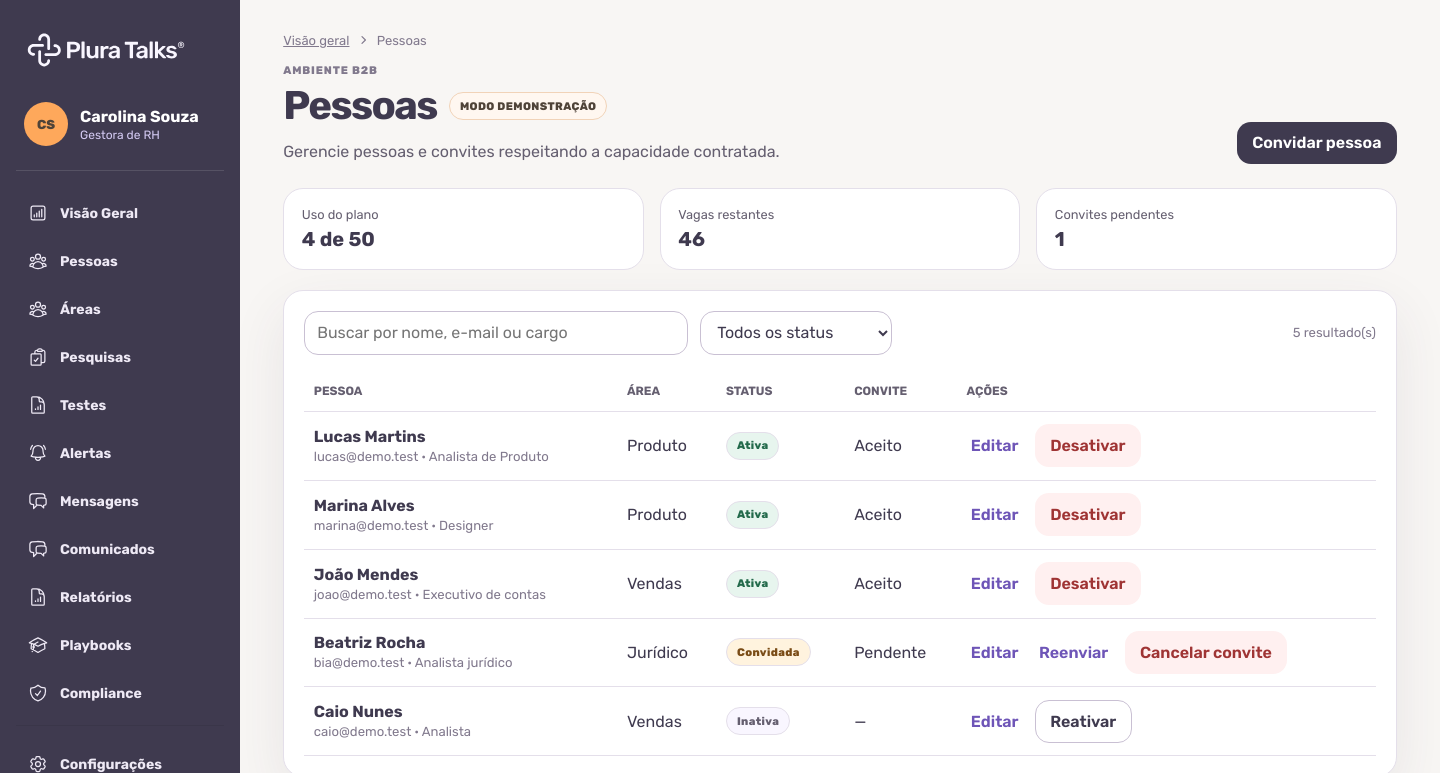
Test: fluxos das configurações › valida duplicidade de e-mail antes de criar convite
The image size is (1440, 773).
Click the button "Convidar pessoa".
click(1317, 143)  # box [1237,122,1397,164]
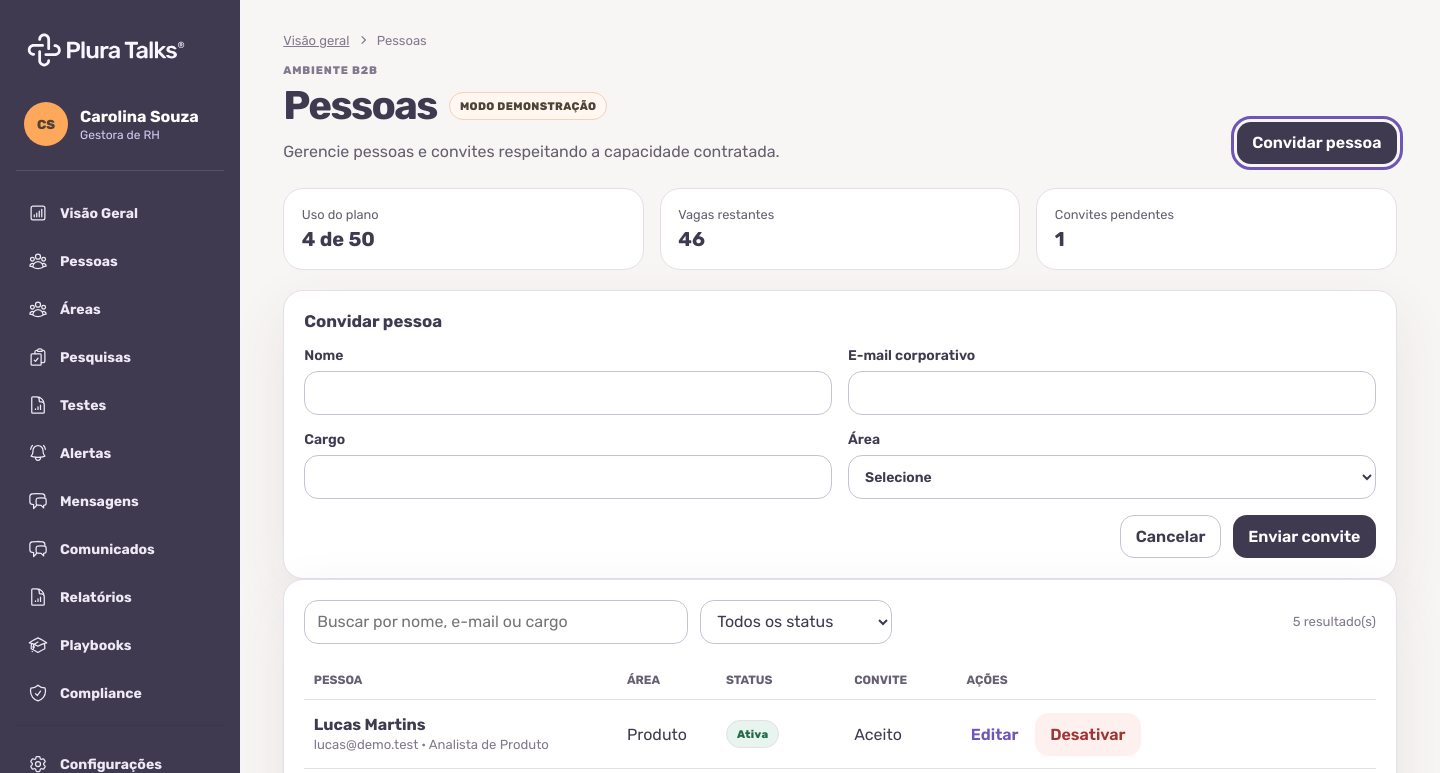
Type "Outro Lucas" into the field labelled "Nome".
click(568, 393); type("Outro Lucas")  # box [304,371,832,415]
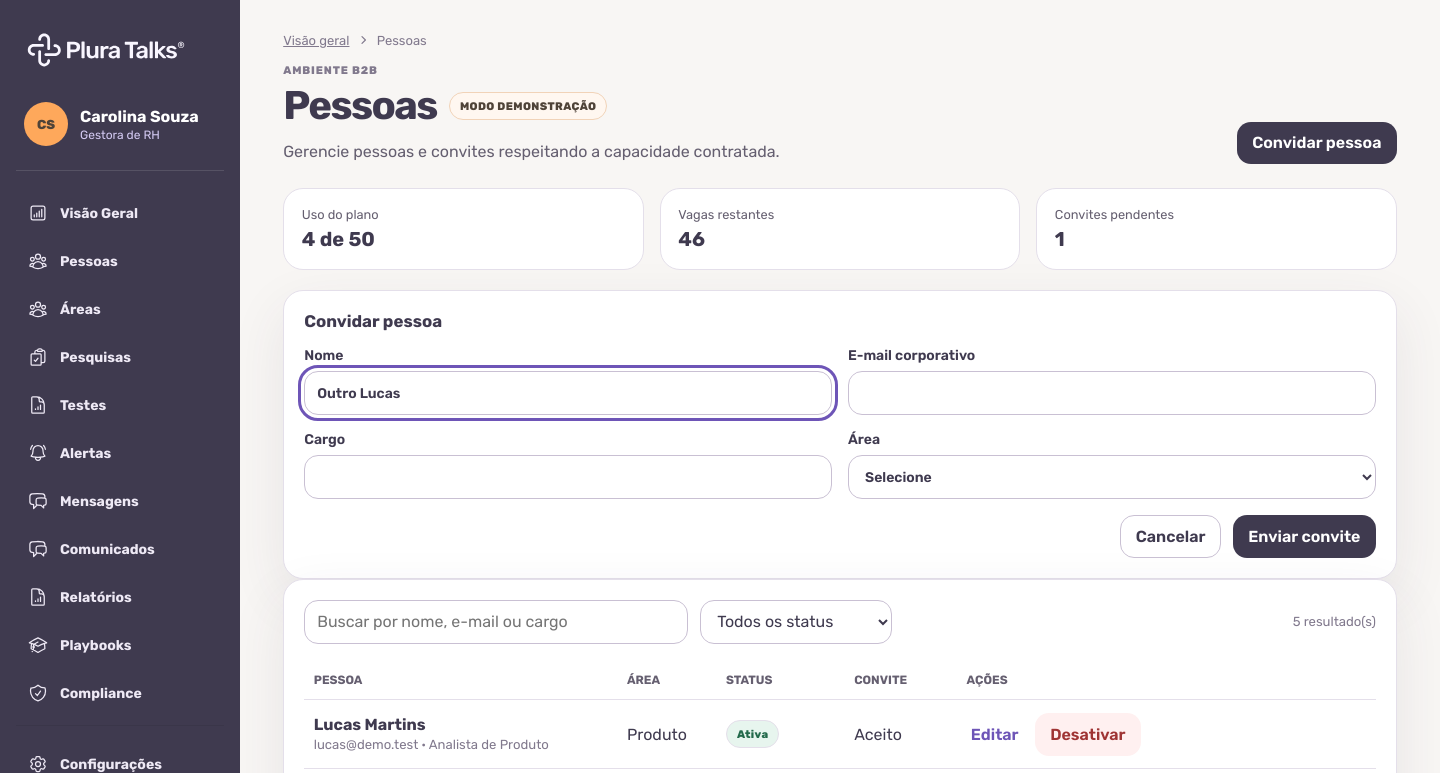
Type "lucas@demo.test" into the field labelled "E-mail corporativo".
click(1112, 393); type("lucas@demo.test")  # box [848,371,1376,415]
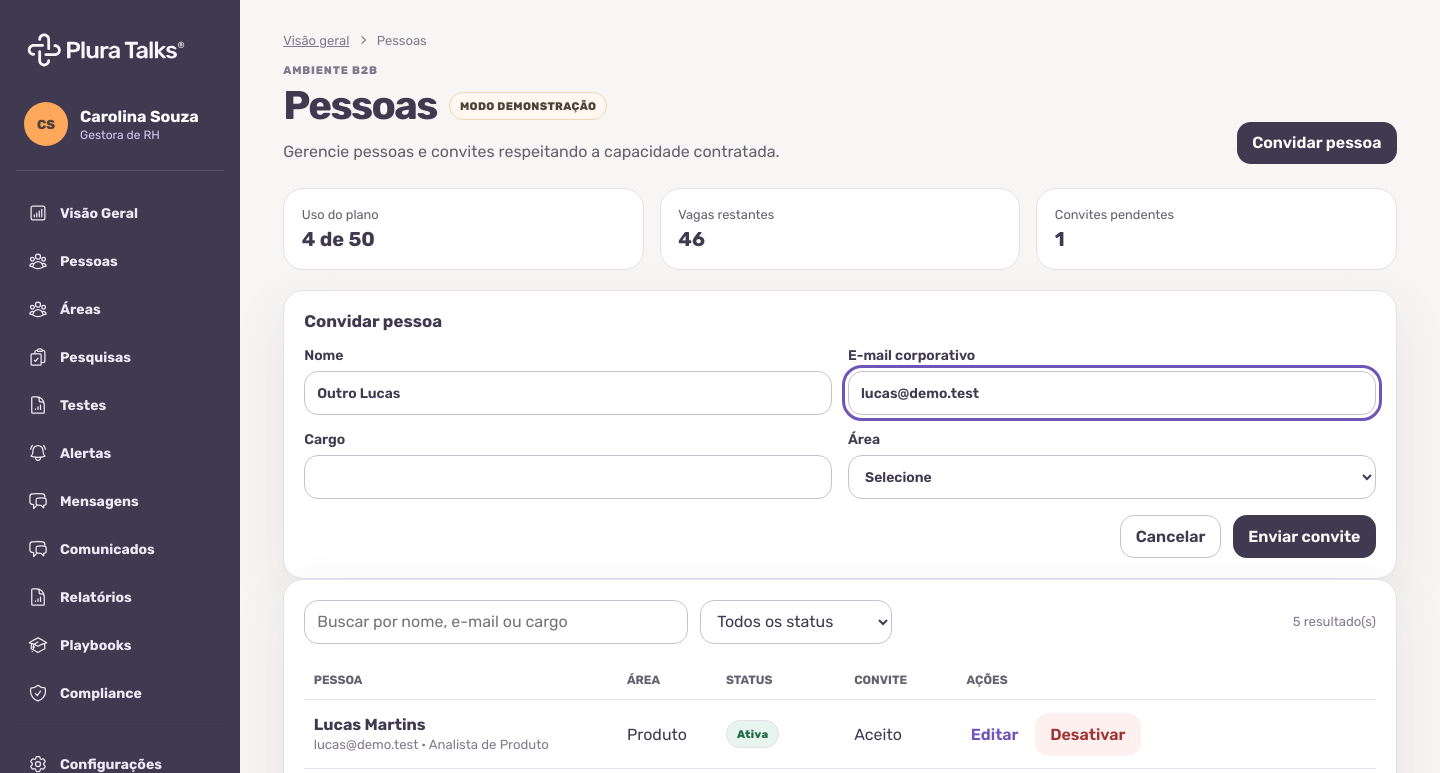
Type "Analista" into the field labelled "Cargo".
click(568, 477); type("Analista")  # box [304,455,832,499]
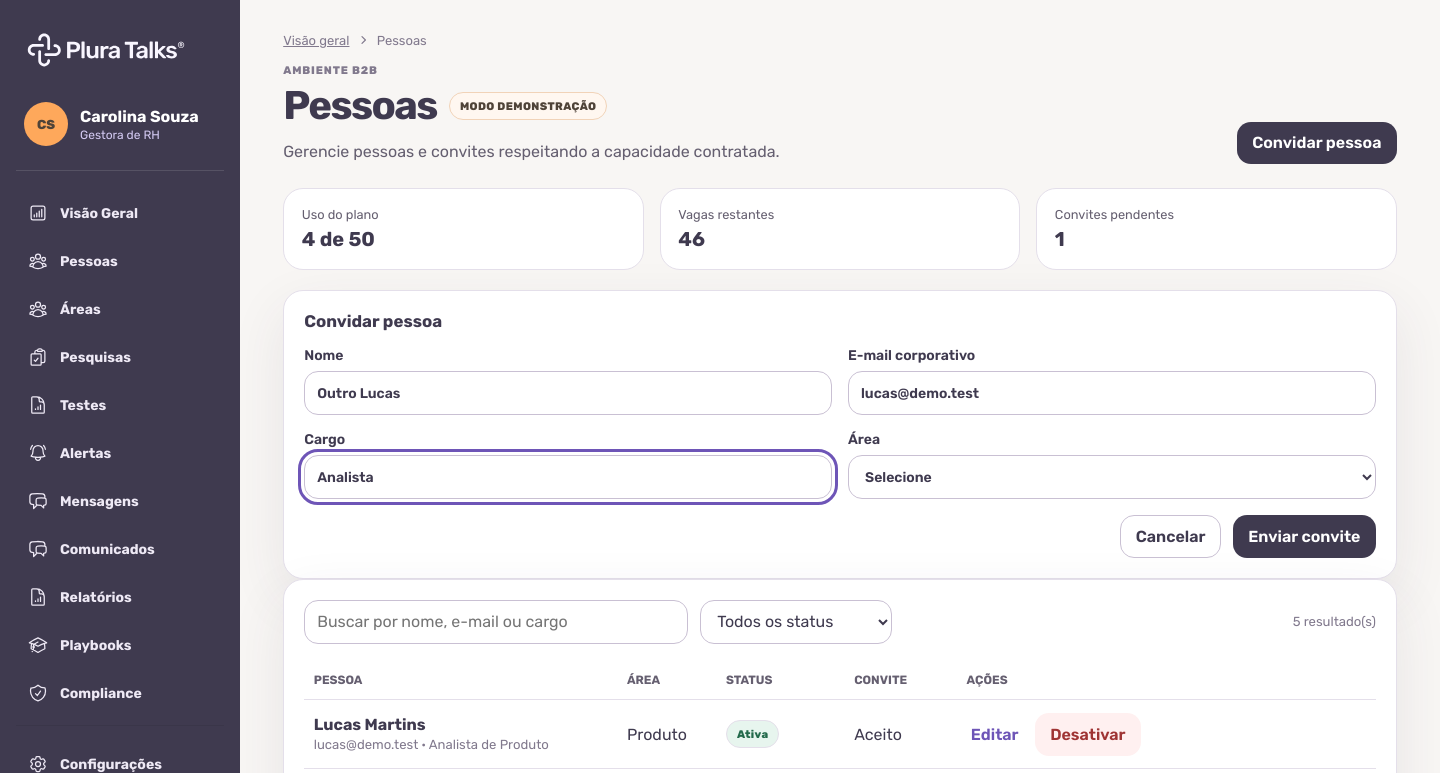
Select "Produto" in the dropdown labelled "Área" at x=1112, y=477, box [848,455,1376,499]
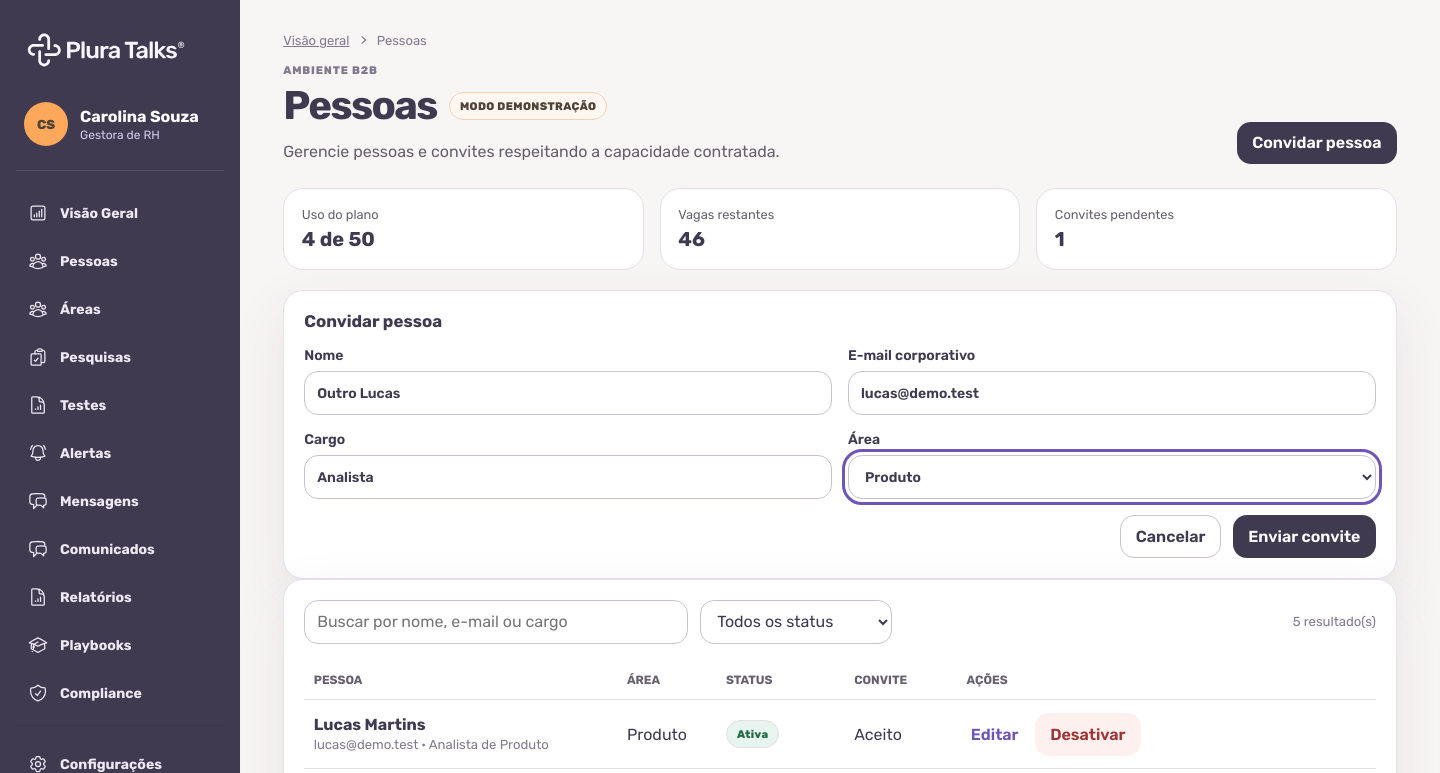
Click the button "Enviar convite".
click(1304, 536)  # box [1233,515,1376,558]
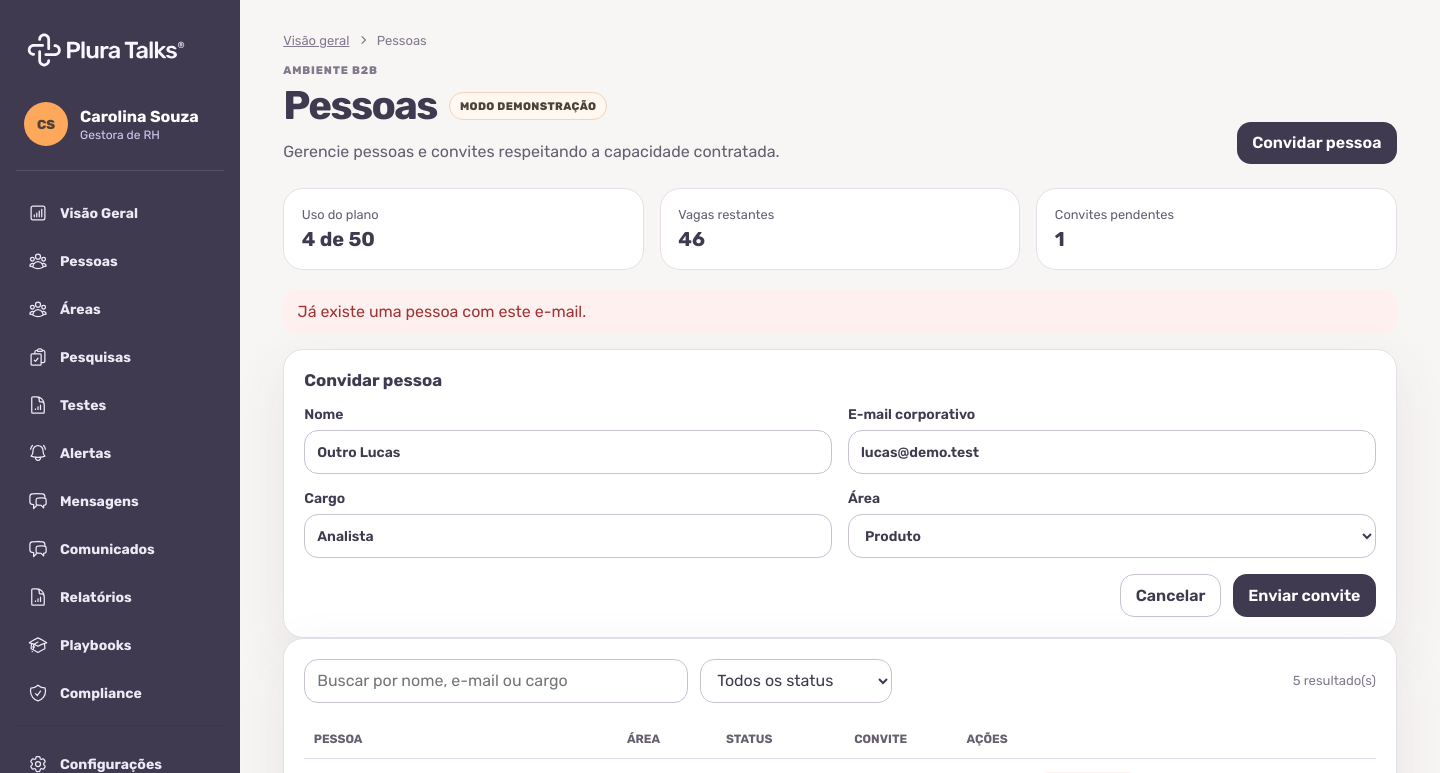
Now the message reads "Já existe uma pessoa com este e-mail.", box [298,302,586,321]
